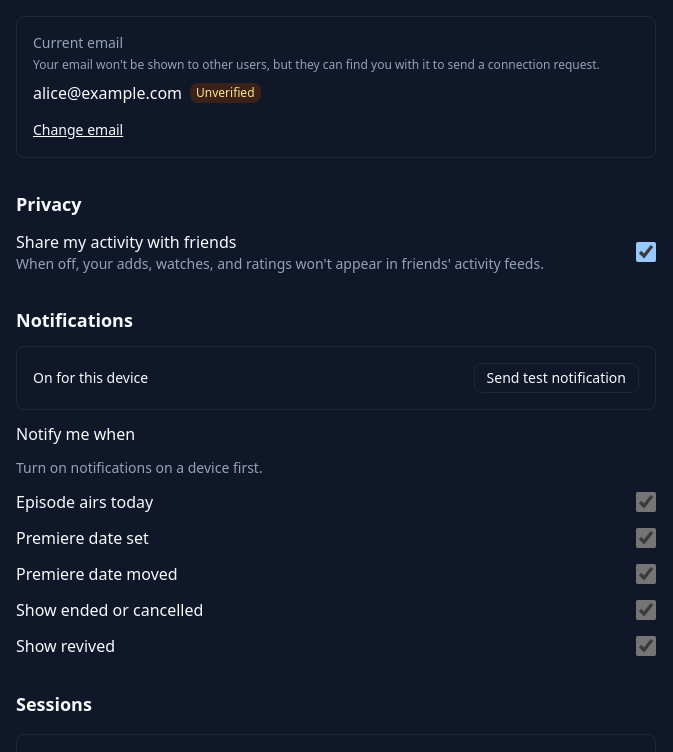
Test: Send test notification › drops the local subscription on a 410 and offers Turn on again
(page scrolled)
Click the button "Send test notification".
click(556, 378)  # box [474,363,639,393]
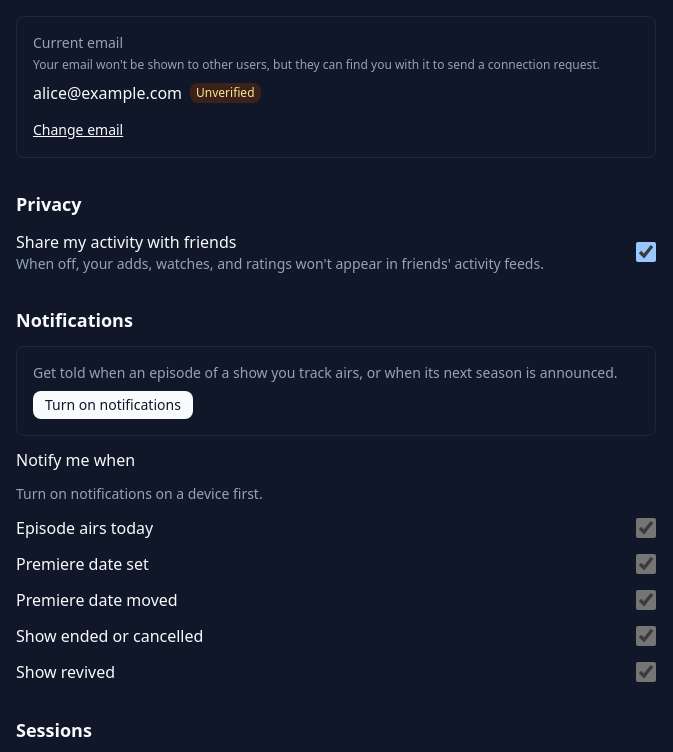
Expected: the button "Turn on notifications" is shown, [33,391,193,419]
